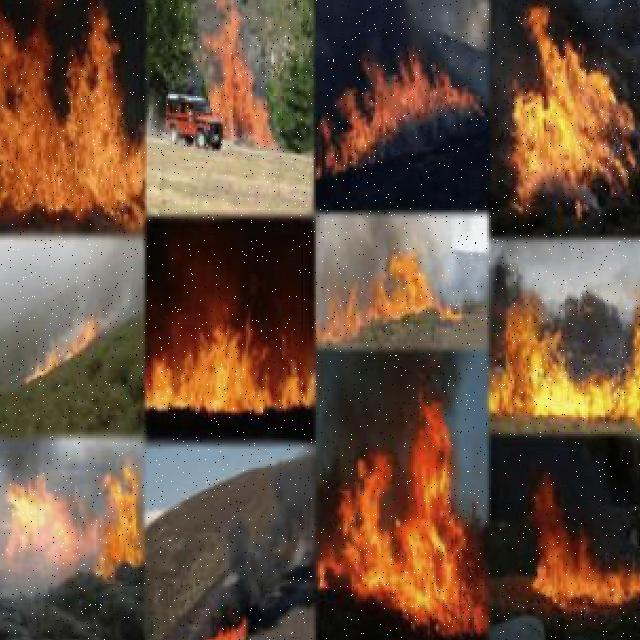fire: (318, 410, 480, 632), (0, 13, 145, 235), (506, 5, 640, 232), (487, 278, 640, 430), (318, 50, 480, 178), (147, 316, 316, 423), (1, 457, 141, 576), (531, 482, 640, 612), (316, 259, 470, 335), (206, 5, 271, 147), (18, 314, 102, 389), (183, 611, 250, 640)
smoke: (214, 502, 284, 624)
